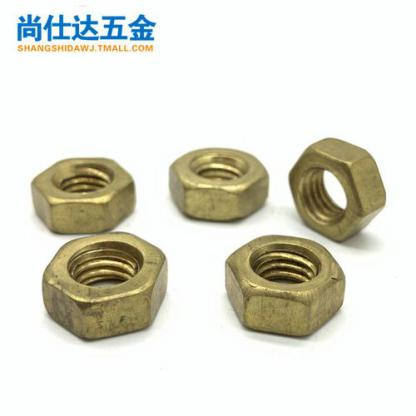FOD: (40, 229, 170, 345), (220, 233, 352, 338), (287, 138, 389, 245), (28, 155, 139, 237), (164, 146, 271, 223)
